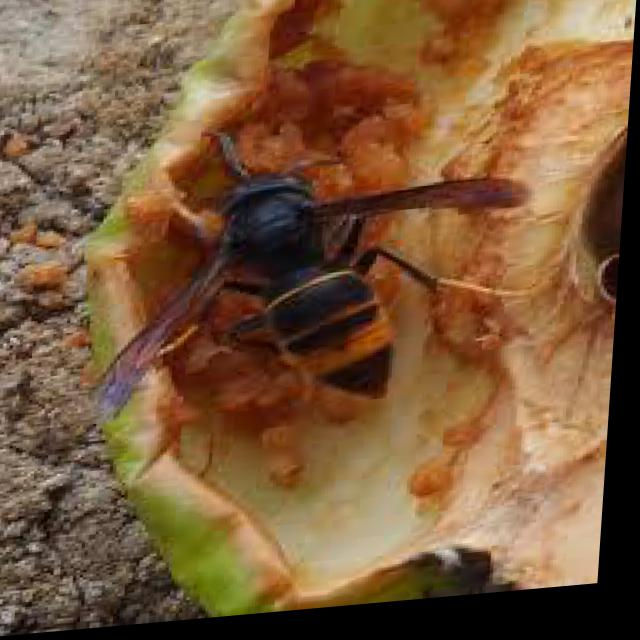Vespa Velutina: (92, 110, 545, 472)
